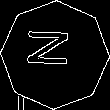N_E: (29, 34, 81, 76)
